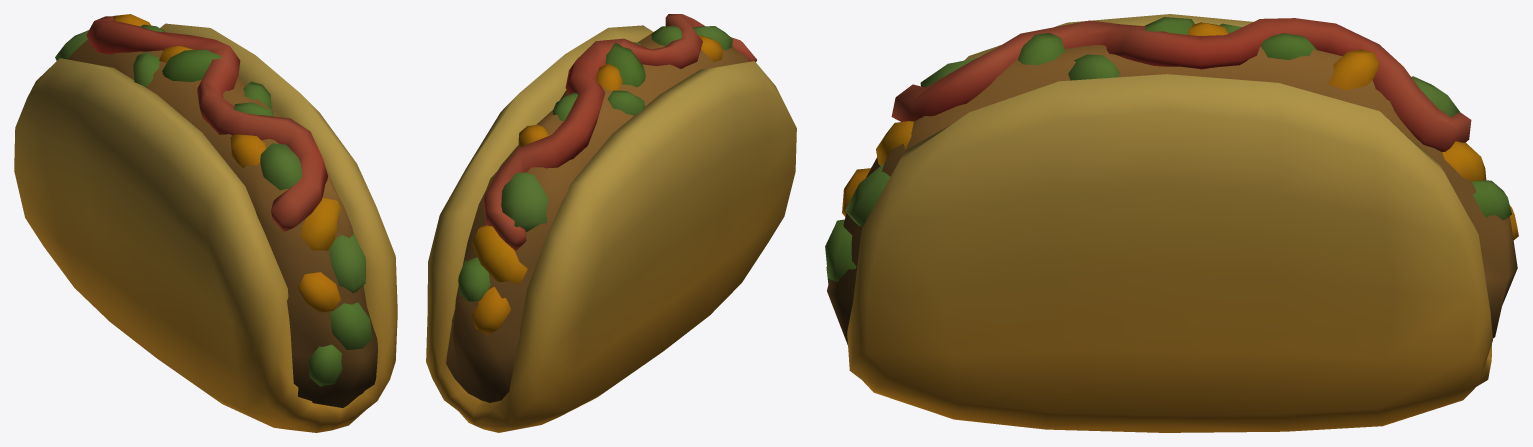
The model's file is taco.glb.
The picture shows the model from 3 angles, left to right: view 1: azimuth 30°, elevation 25°; view 2: azimuth 150°, elevation 25°; view 3: azimuth 270°, elevation 25°; orthographic projection. The views are drawn at different scales.
Visible parts, largest first — view 1: geometry_0; view 2: geometry_0; view 3: geometry_0.
Boxes of the visible parts, x1,y1,x2,y2 form: geometry_0: [14, 14, 397, 432]; geometry_0: [426, 14, 796, 432]; geometry_0: [825, 14, 1518, 432].
Bounding box in the file's own units: 0.053 × 0.1008 × 0.1594.
Materials: 1 (1 with a texture image).
